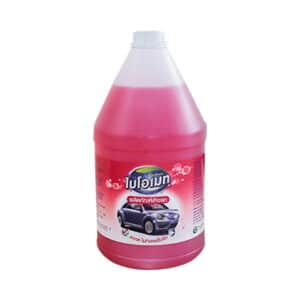Cleaning_solution: (87, 25, 211, 278)
